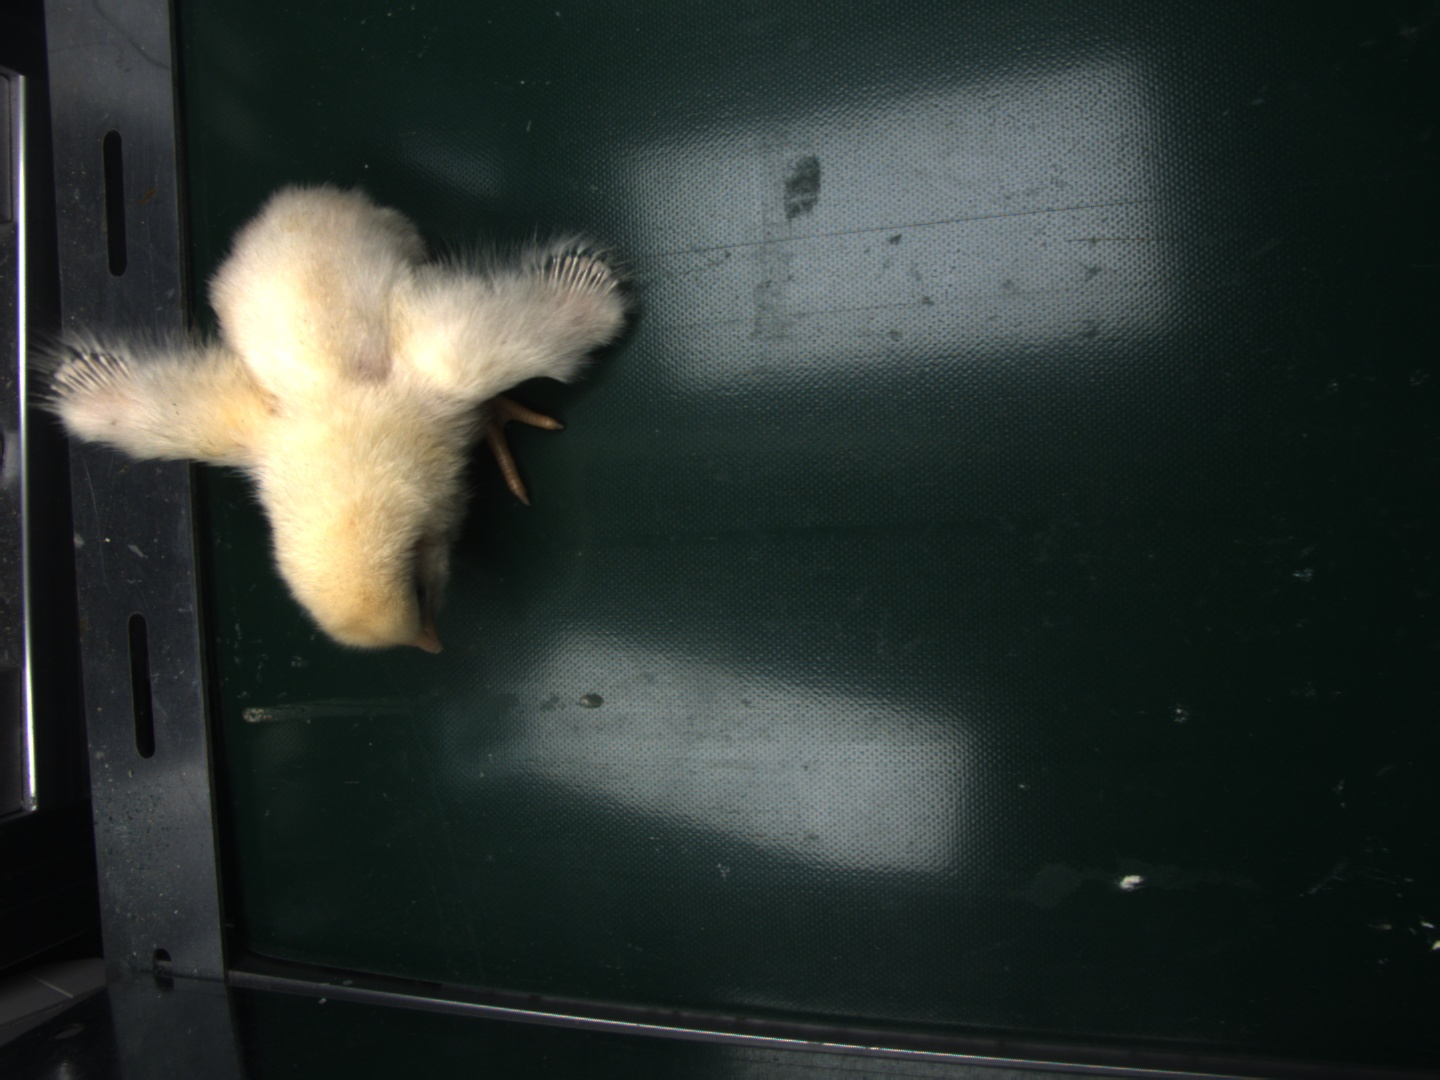male: (53, 349, 132, 400), (547, 247, 620, 295)
